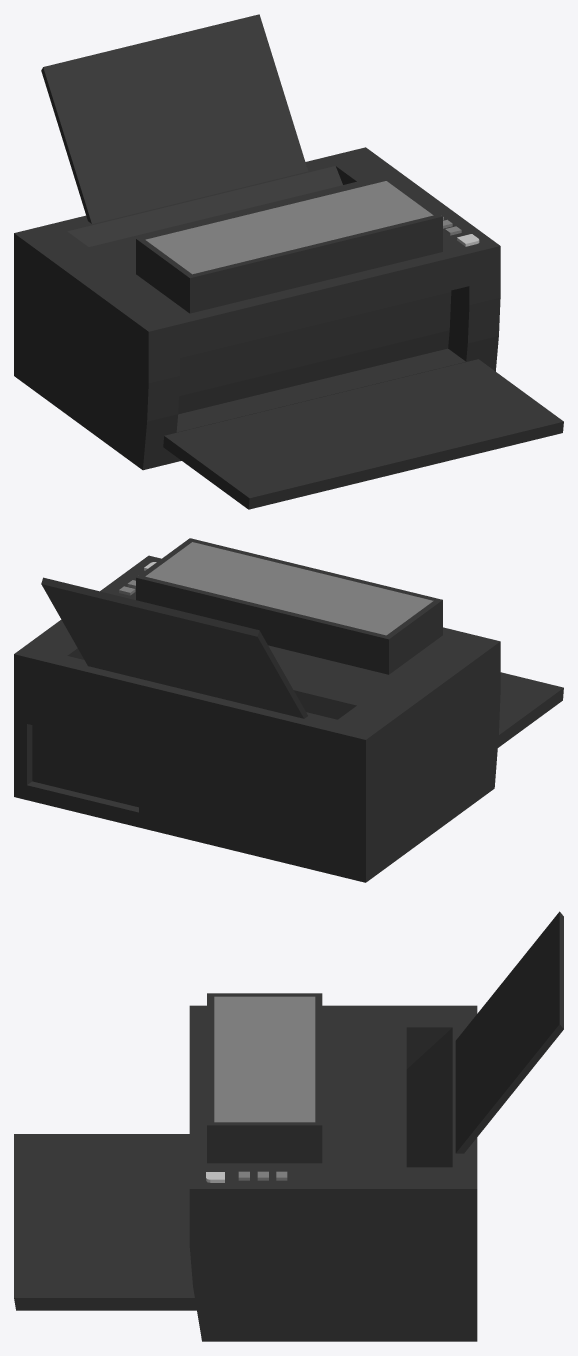
Rendered from Printer.fbx.
3 renders of one model, top to bottom at view 1: azimuth 30°, elevation 25°; view 2: azimuth 150°, elevation 25°; view 3: azimuth 270°, elevation 25°, orthographic. The views are drawn at different scales.
Parts seen in each view (by area): view 1: Printer; view 2: Printer; view 3: Printer.
Part boxes in pixels (box(x1,y1,x2,y2)): Printer: box(14, 14, 563, 509); Printer: box(14, 538, 563, 882); Printer: box(14, 911, 563, 1341).
Bounding box in the file's own units: 72.27 × 51.86 × 91.58.
